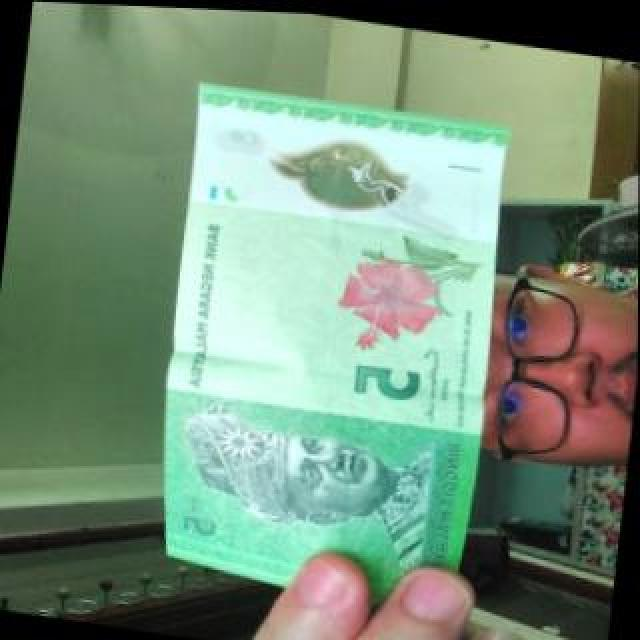5 Ringgit: (146, 72, 523, 639)
